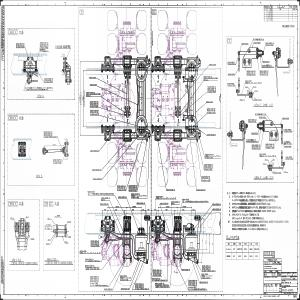PartNumber: (282, 289, 294, 292), (61, 261, 72, 264), (267, 206, 277, 209), (232, 224, 242, 227), (245, 220, 254, 223), (242, 224, 251, 227), (203, 77, 210, 80), (89, 76, 96, 79), (26, 262, 36, 264), (256, 203, 266, 205), (258, 221, 268, 223), (269, 221, 279, 223), (262, 210, 271, 212), (235, 221, 244, 223), (279, 221, 288, 223), (44, 78, 52, 80), (120, 288, 128, 290), (136, 202, 144, 204), (152, 271, 160, 273), (188, 283, 196, 285), (188, 281, 196, 283), (188, 280, 196, 282), (196, 189, 204, 191), (128, 188, 136, 190), (128, 186, 136, 188), (16, 43, 23, 45), (40, 45, 47, 47), (53, 160, 60, 162), (85, 258, 92, 260), (90, 280, 97, 282), (90, 279, 97, 281), (90, 276, 97, 278), (104, 288, 111, 290), (120, 275, 127, 277), (135, 285, 142, 287), (135, 283, 142, 285), (100, 203, 107, 205), (118, 196, 125, 198), (131, 193, 138, 195), (156, 196, 163, 198), (160, 202, 167, 204), (171, 201, 178, 203), (153, 272, 160, 274), (202, 268, 209, 270), (202, 265, 209, 267), (202, 274, 209, 276), (204, 167, 211, 169), (204, 165, 211, 167), (204, 164, 211, 166), (205, 154, 212, 156), (206, 101, 213, 103), (208, 86, 215, 88), (209, 64, 216, 66), (203, 76, 210, 78), (247, 72, 254, 74), (247, 70, 254, 72), (245, 80, 252, 82), (265, 42, 272, 44), (260, 72, 267, 74), (260, 70, 267, 72), (248, 119, 255, 121), (259, 153, 266, 155), (86, 92, 93, 94), (90, 111, 97, 113), (90, 150, 97, 152), (92, 169, 99, 171), (93, 178, 100, 180), (117, 186, 124, 188), (16, 44, 22, 46), (40, 44, 46, 46), (40, 42, 46, 44), (44, 134, 50, 136), (44, 131, 50, 133), (91, 242, 97, 244), (91, 240, 97, 242), (88, 191, 94, 193), (167, 189, 173, 191), (153, 270, 159, 272), (202, 176, 208, 178), (207, 108, 213, 110), (208, 89, 214, 91), (254, 42, 260, 44), (263, 60, 269, 62), (252, 146, 258, 148), (252, 144, 258, 146), (266, 145, 272, 147), (286, 156, 292, 158), (90, 84, 96, 86), (90, 104, 96, 106), (90, 101, 96, 103), (117, 187, 123, 189), (26, 89, 34, 90), (212, 209, 220, 210), (284, 129, 292, 130), (284, 146, 292, 147), (128, 185, 136, 186), (44, 80, 51, 81), (34, 89, 41, 90), (53, 159, 60, 160), (86, 265, 93, 266), (90, 278, 97, 279), (135, 287, 142, 288), (101, 198, 108, 199), (182, 199, 189, 200), (212, 204, 219, 205), (182, 269, 189, 270), (188, 285, 195, 286), (202, 267, 209, 268), (202, 178, 209, 179), (207, 134, 214, 135), (207, 88, 214, 89), (241, 43, 248, 44), (228, 74, 235, 75), (228, 83, 235, 84), (259, 117, 266, 118), (282, 118, 289, 119), (86, 94, 93, 95), (90, 110, 97, 111), (44, 133, 50, 134), (91, 244, 97, 245), (80, 251, 86, 252), (152, 278, 158, 279), (156, 283, 162, 284), (200, 282, 206, 283), (207, 110, 213, 111), (228, 62, 234, 63), (252, 133, 258, 134), (266, 144, 272, 145), (90, 103, 96, 104)
